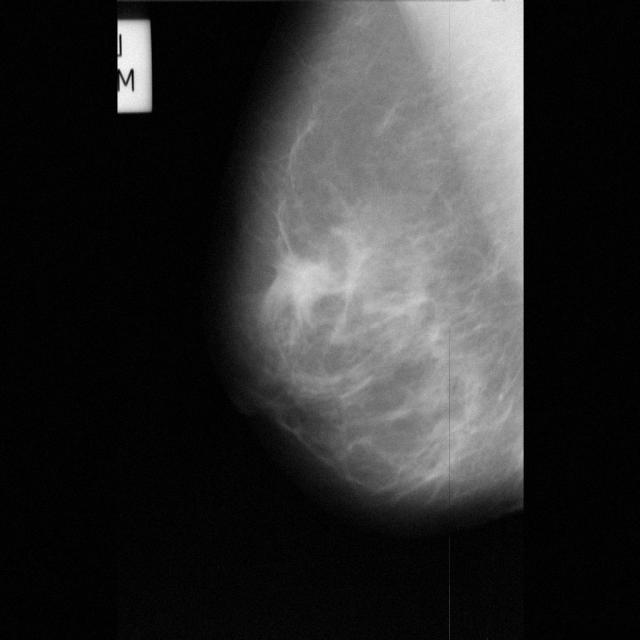ARCH: (248, 228, 353, 333)
